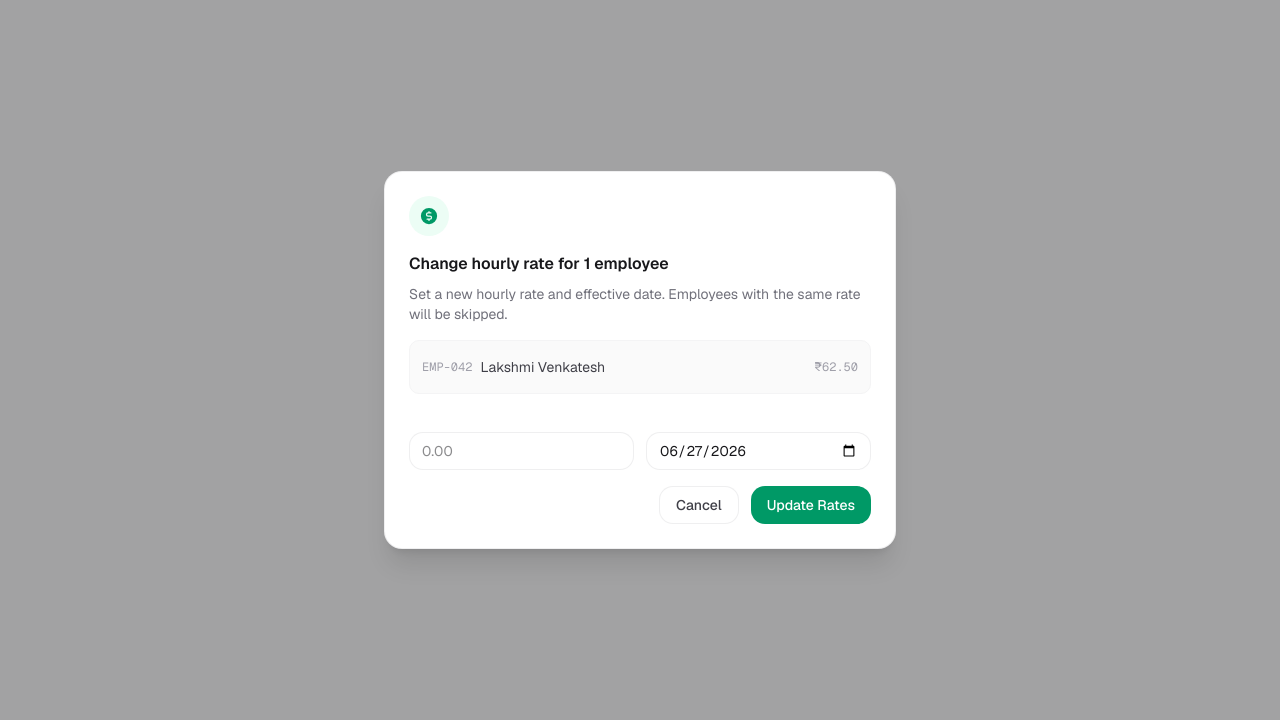
Test: BulkRateDialog — validation › shows validation error when rate is empty
Note: Click confirm without entering a rate
Step 1. Click the button "Update Rates" → (811, 505), box [751, 486, 871, 524]
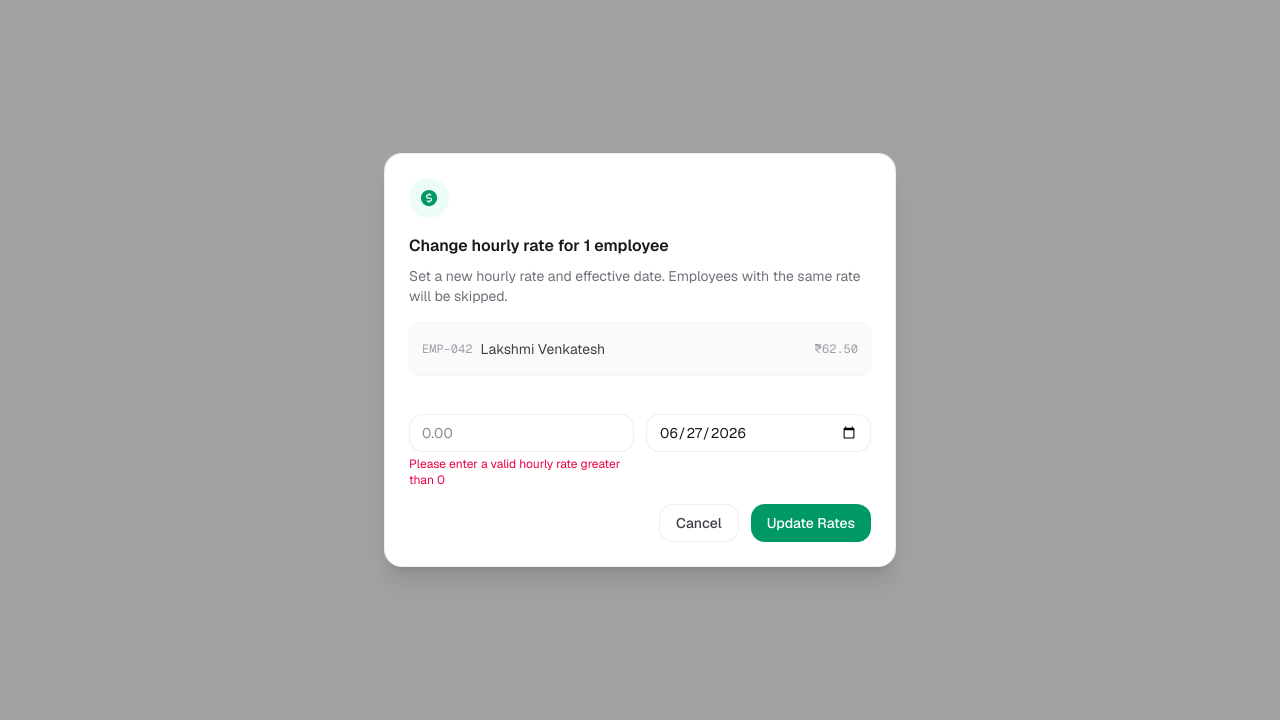
Expected: the text "Please enter a valid hourly rate greater than 0" is shown, [409, 456, 634, 488]
